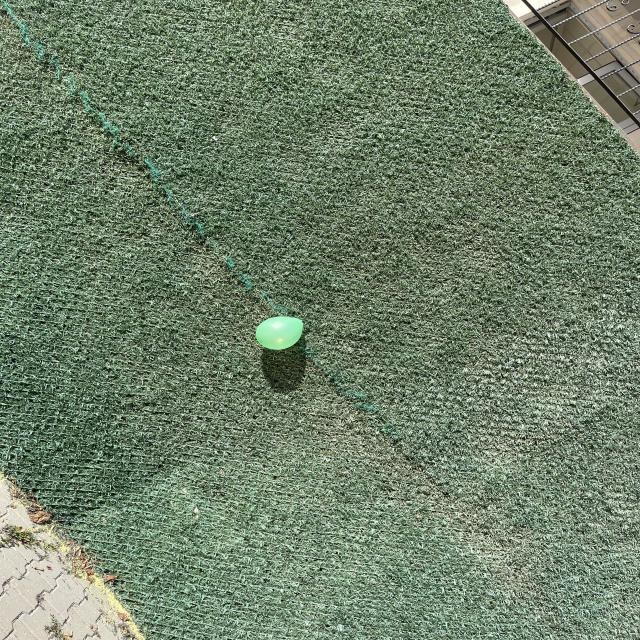balloon: (256, 316, 303, 350)
